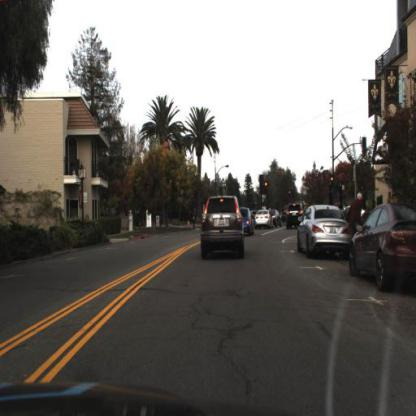car: (347, 202, 416, 292), (294, 202, 349, 257), (200, 197, 246, 257), (287, 201, 307, 232), (237, 209, 256, 238), (256, 208, 274, 232)
pedestrian: (347, 192, 364, 234)
